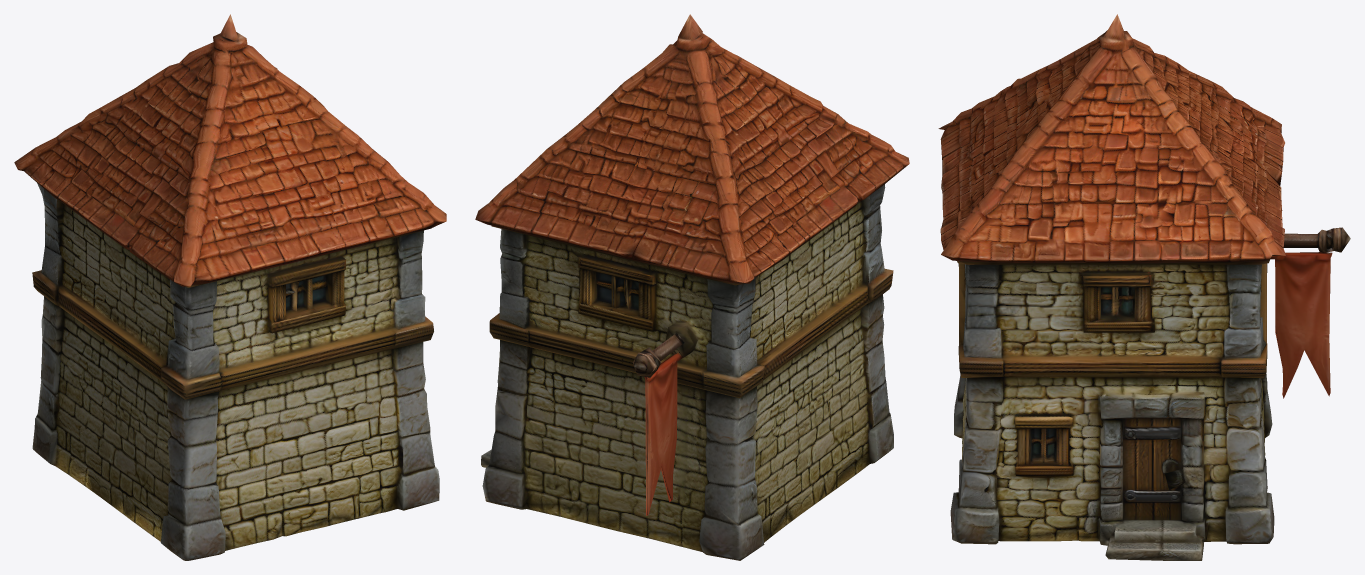
The model's file is stone_house.glb.
3 views of the same model, side by side, from view 1: azimuth 30°, elevation 25°; view 2: azimuth 150°, elevation 25°; view 3: azimuth 270°, elevation 25° (orthographic).
Visible parts, largest first — view 1: tripo_node_87328bd2-da30-40c4-a45a-564f5fac5764; view 2: tripo_node_87328bd2-da30-40c4-a45a-564f5fac5764; view 3: tripo_node_87328bd2-da30-40c4-a45a-564f5fac5764.
Part boxes in pixels (<box>): tripo_node_87328bd2-da30-40c4-a45a-564f5fac5764: <box>14,14,446,560</box>; tripo_node_87328bd2-da30-40c4-a45a-564f5fac5764: <box>475,14,909,560</box>; tripo_node_87328bd2-da30-40c4-a45a-564f5fac5764: <box>938,14,1350,560</box>.
Size of the model in its own units: 0.6954 by 1.01 by 0.8072.
1 material, 1 textured.
